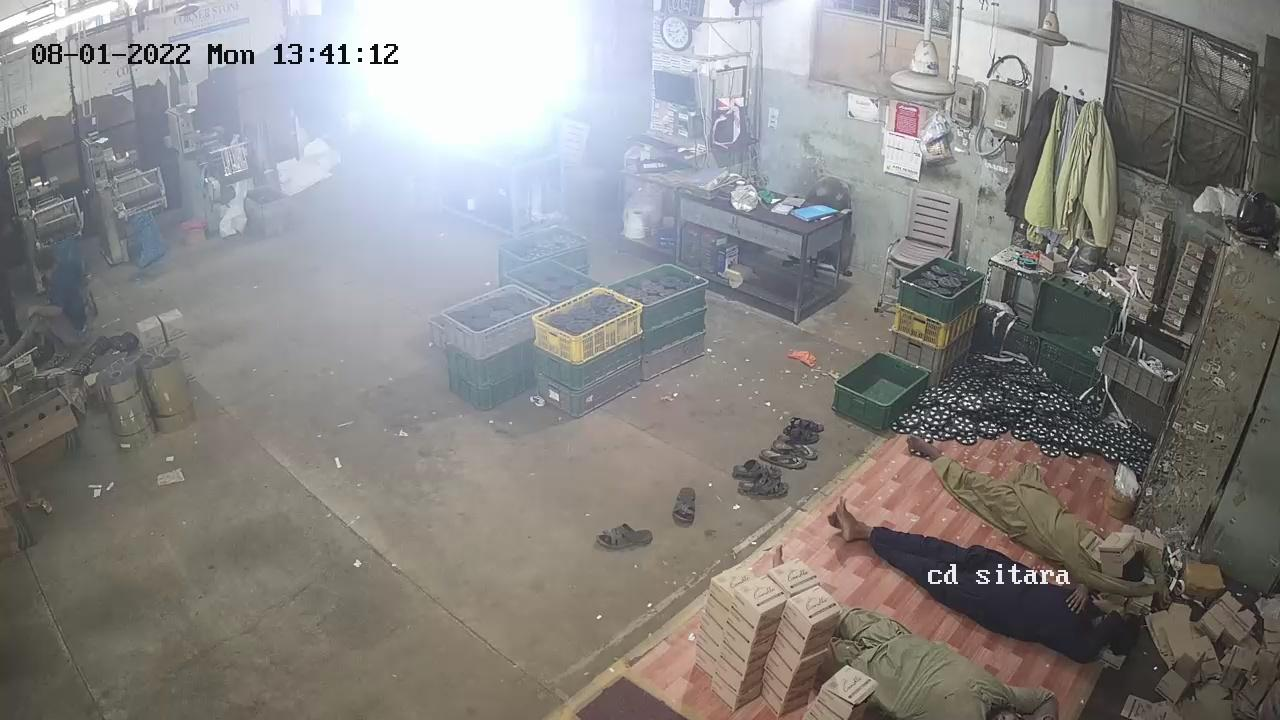person: (834, 493, 1125, 680), (906, 437, 1167, 603), (32, 243, 89, 333), (2, 272, 22, 340)
